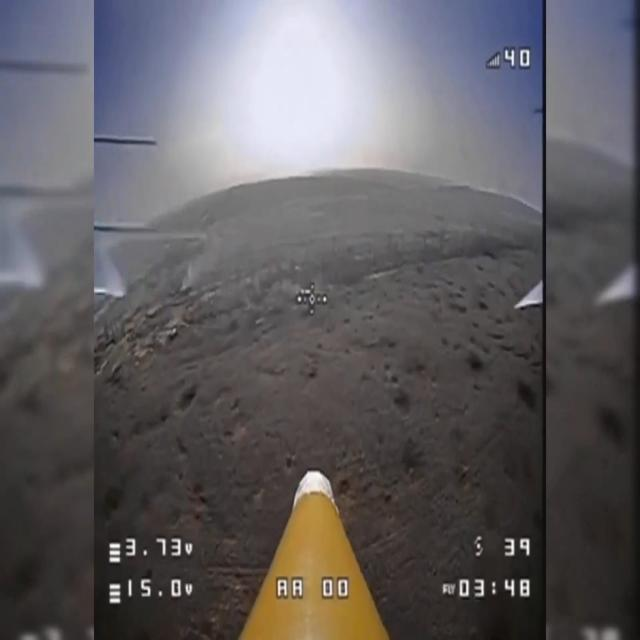cars: (295, 289, 312, 302), (164, 326, 178, 338)
